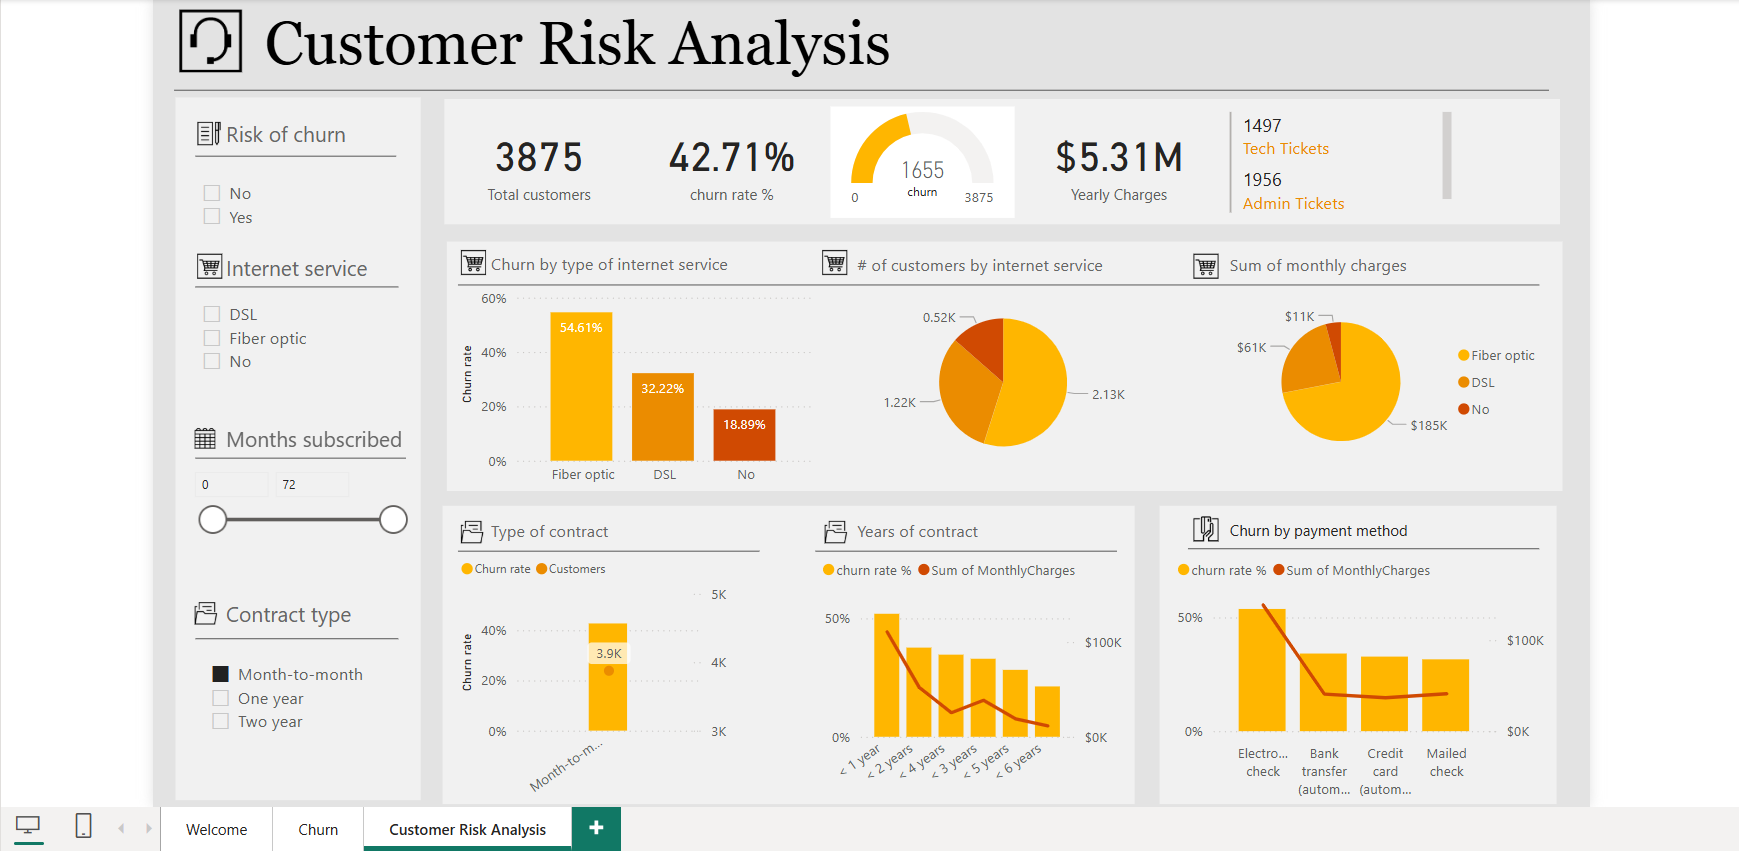

What the dashboard file says about the page in this screenshot:
{"tool":"powerbi","page":{"name":"Customer Risk Analysis","canvas":[1280,720],"ordinal":2},"visuals":[{"type":"basicShape","box":[249.8,87.8,1013.8,113.8],"z":0},{"type":"basicShape","box":[892.2,448.5,360.8,271],"z":1000},{"type":"basicShape","box":[251.8,448.5,628.9,271],"z":2000},{"type":"textbox","box":[94.5,4.8,1167.1,75.2],"z":3000},{"type":"basicShape","box":[9,61,1244.3,40.1],"z":4000},{"type":"basicShape","box":[251.8,214.2,1013.8,226.7],"z":5000},{"type":"basicShape","box":[18.3,81,222.8,638.6],"z":6000},{"type":"card","fields":{"Values":["Count(churn.customerID)"]},"box":[261.4,89,164.9,113.8],"z":7000},{"type":"gauge","fields":{"MaxValue":["CountNonNull(churn.customerID)"],"Y":["churn.Count of Churn for Yes"]},"box":[603.8,96.2,164,99.4],"z":8000},{"type":"slicer","fields":{"Values":["churn.Contract"]},"box":[40.5,584.5,178.4,79.1],"z":9000},{"type":"card","fields":{"Values":["Sum(churn.TotalCharges)"]},"box":[778.4,89,164.9,113.8],"z":10000},{"type":"slicer","fields":{"Values":["churn.Churn"]},"box":[31.8,156.3,173.6,57.9],"z":11000},{"type":"slicer","title":"Number of months subscribed","fields":{"Values":["churn.tenure"]},"box":[24.1,410.9,210.3,70.4],"z":14000},{"type":"image","box":[17.4,4.8,67.5,65.6],"z":15000},{"type":"textbox","box":[59.8,102.2,174.6,40.5],"z":16000},{"type":"basicShape","box":[28,120.6,198.7,39.5],"z":17000},{"type":"textbox","box":[59.8,374.3,185.2,39.5],"z":18000},{"type":"basicShape","box":[28,389.7,207.4,38.6],"z":19000},{"type":"basicShape","box":[28,549.8,200.6,39.5],"z":20000},{"type":"image","box":[31.8,374.3,28,34.7],"z":21000},{"type":"textbox","box":[59.8,529.6,159.2,40.5],"z":22000},{"type":"image","box":[31.8,105.1,34.7,30.9],"z":23000},{"type":"image","box":[31.8,524.7,29.9,45.3],"z":24000},{"type":"textbox","box":[59.8,221.2,180.4,40.5],"z":25000},{"type":"basicShape","box":[28,237,200.6,38.6],"z":26000},{"type":"slicer","fields":{"Values":["churn.InternetService"]},"box":[31.8,263.3,200.6,78.1],"z":27000},{"type":"card","fields":{"Values":["churn.churn rate %"]},"box":[437,89,156.3,113.8],"z":28000},{"type":"lineClusteredColumnComboChart","fields":{"Category":["churn.Contract"],"Y":["churn.churn rate %"],"Y2":["CountNonNull(churn.customerID)"]},"box":[269.1,489,246.9,230.5],"z":29000},{"type":"lineClusteredColumnComboChart","fields":{"Y":["churn.churn rate %"],"Y2":["Sum(churn.MonthlyCharges)"],"Category":["churn.Loyalty"]},"box":[591.3,489,276.8,230.5],"z":30000},{"type":"textbox","box":[296.1,220,300.9,40.5],"z":31000},{"type":"basicShape","box":[261.4,234.4,982.9,39.5],"z":32000},{"type":"clusteredColumnChart","fields":{"Category":["churn.InternetService"],"Y":["churn.churn rate %"]},"box":[269.1,242.1,322.2,198.7],"z":33000},{"type":"pieChart","fields":{"Y":["Sum(churn.MonthlyCharges)"],"Category":["churn.InternetService"]},"box":[949.1,264.3,295.2,154.3],"z":34000},{"type":"pieChart","fields":{"Category":["churn.InternetService"],"Y":["CountNonNull(churn.customerID)"]},"box":[622.2,261.4,270.1,160.1],"z":35000},{"type":"textbox","box":[954,221.9,283.6,40.5],"z":36000},{"type":"textbox","box":[622.2,221.9,285.5,40.5],"z":37000},{"type":"basicShape","box":[261.4,471.7,288.4,39.5],"z":38000},{"type":"textbox","box":[296.1,459.1,237.3,40.5],"z":39000},{"type":"textbox","box":[622.2,459.1,270.1,40.5],"z":40000},{"type":"basicShape","box":[579.7,471.7,288.4,39.5],"z":41000},{"type":"lineClusteredColumnComboChart","fields":{"Y":["churn.churn rate %"],"Y2":["Sum(churn.MonthlyCharges)"],"Category":["churn.PaymentMethod"]},"box":[907.7,489,336.6,230.5],"z":42000},{"type":"basicShape","box":[911.5,469.8,332.8,39.5],"z":43000},{"type":"textbox","box":[954.3,459.1,270.1,40.5],"z":44000},{"type":"multiRowCard","fields":{"Values":["Sum(churn.numTechTickets)","Sum(churn.numAdminTickets)"]},"box":[954,96.2,207.4,99.4],"z":45000},{"type":"image","box":[922.1,452.4,31.8,39.5],"z":46000},{"type":"image","box":[593.2,452.4,29.9,45.3],"z":47000},{"type":"image","box":[269.1,451.4,29.9,45.3],"z":48000},{"type":"image","box":[34.7,219.9,31.8,34.7],"z":49000},{"type":"image","box":[269.1,217,31.8,34.7],"z":50000},{"type":"image","box":[591.3,217,31.8,34.7],"z":51000},{"type":"image","box":[922.1,219.9,31.8,34.7],"z":52000},{"type":"textbox","box":[666.5,156.3,57.9,28.9],"z":53000}]}

Visuals, with their boxes on the page's 1280x720 design canvas (x1, y1, x2, y2). These are canvas units, not pixel positions in the 1739x851 screenshot, which may show the page scaled, cropped or inside an application window:
basicShape: locate(250, 88, 1264, 202)
basicShape: locate(892, 448, 1253, 720)
basicShape: locate(252, 448, 881, 720)
textbox: locate(94, 5, 1262, 80)
basicShape: locate(9, 61, 1253, 101)
basicShape: locate(252, 214, 1266, 441)
basicShape: locate(18, 81, 241, 720)
card - Count(churn.customerID): locate(261, 89, 426, 203)
gauge - CountNonNull(churn.customerID) x churn.Count of Churn for Yes: locate(604, 96, 768, 196)
slicer - churn.Contract: locate(40, 584, 219, 664)
card - Sum(churn.TotalCharges): locate(778, 89, 943, 203)
slicer - churn.Churn: locate(32, 156, 205, 214)
"Number of months subscribed" slicer: locate(24, 411, 234, 481)
image: locate(17, 5, 85, 70)
textbox: locate(60, 102, 234, 143)
basicShape: locate(28, 121, 227, 160)
textbox: locate(60, 374, 245, 414)
basicShape: locate(28, 390, 235, 428)
basicShape: locate(28, 550, 229, 589)
image: locate(32, 374, 60, 409)
textbox: locate(60, 530, 219, 570)
image: locate(32, 105, 66, 136)
image: locate(32, 525, 62, 570)
textbox: locate(60, 221, 240, 262)
basicShape: locate(28, 237, 229, 276)
slicer - churn.InternetService: locate(32, 263, 232, 341)
card - churn.churn rate %: locate(437, 89, 593, 203)
lineClusteredColumnComboChart - churn.Contract x churn.churn rate %: locate(269, 489, 516, 720)
lineClusteredColumnComboChart - churn.churn rate % x Sum(churn.MonthlyCharges): locate(591, 489, 868, 720)
textbox: locate(296, 220, 597, 260)
basicShape: locate(261, 234, 1244, 274)
clusteredColumnChart - churn.InternetService x churn.churn rate %: locate(269, 242, 591, 441)
pieChart - Sum(churn.MonthlyCharges) x churn.InternetService: locate(949, 264, 1244, 419)
pieChart - churn.InternetService x CountNonNull(churn.customerID): locate(622, 261, 892, 422)
textbox: locate(954, 222, 1238, 262)
textbox: locate(622, 222, 908, 262)
basicShape: locate(261, 472, 550, 511)
textbox: locate(296, 459, 533, 500)
textbox: locate(622, 459, 892, 500)
basicShape: locate(580, 472, 868, 511)
lineClusteredColumnComboChart - churn.churn rate % x Sum(churn.MonthlyCharges): locate(908, 489, 1244, 720)
basicShape: locate(912, 470, 1244, 509)
textbox: locate(954, 459, 1224, 500)
multiRowCard - Sum(churn.numTechTickets) x Sum(churn.numAdminTickets): locate(954, 96, 1161, 196)
image: locate(922, 452, 954, 492)
image: locate(593, 452, 623, 498)
image: locate(269, 451, 299, 497)
image: locate(35, 220, 66, 255)
image: locate(269, 217, 301, 252)
image: locate(591, 217, 623, 252)
image: locate(922, 220, 954, 255)
textbox: locate(666, 156, 724, 185)
